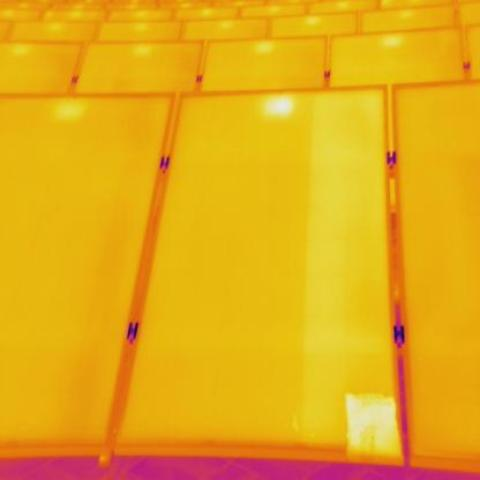fault: (348, 393, 397, 455), (262, 94, 296, 116)
